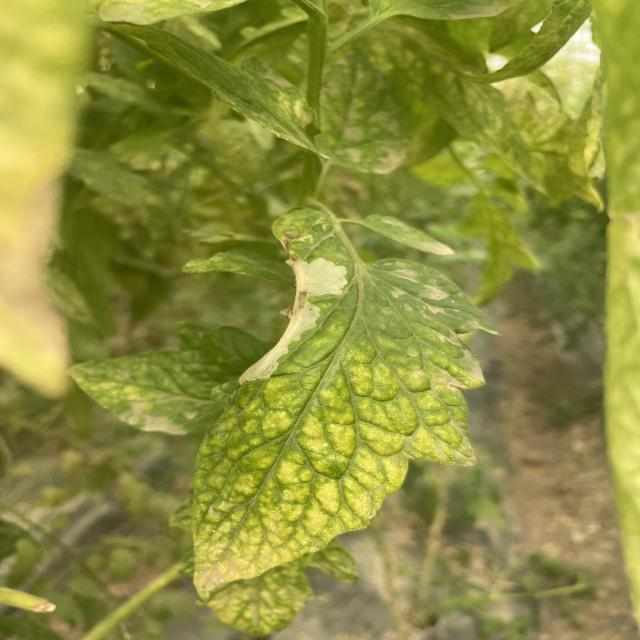Tuta absoluta: (239, 246, 352, 405)
